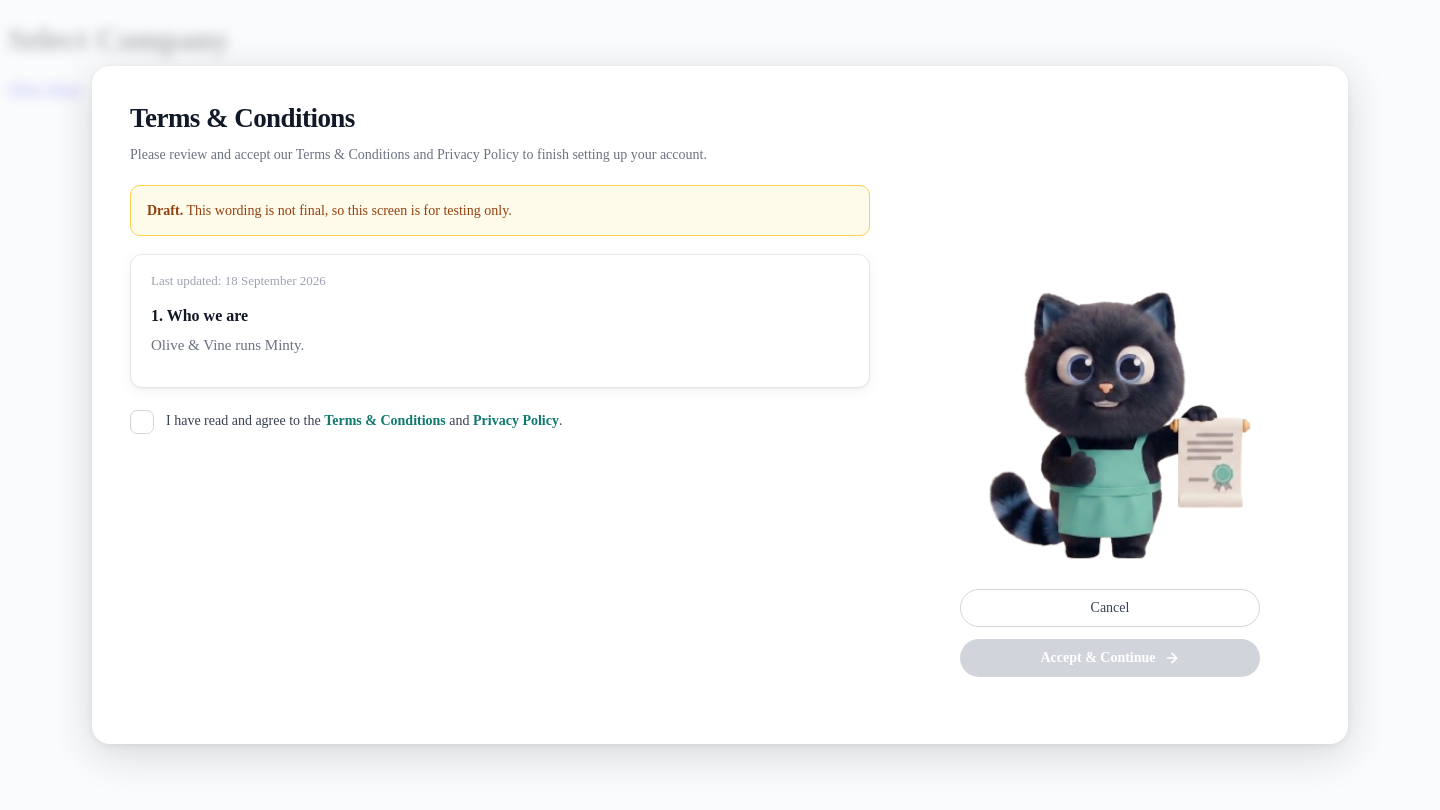
Test: TermsGate › a refusal is said in the panel, and Accept can be tried again
Click the checkbox at (142, 422), box [130,410,154,434]
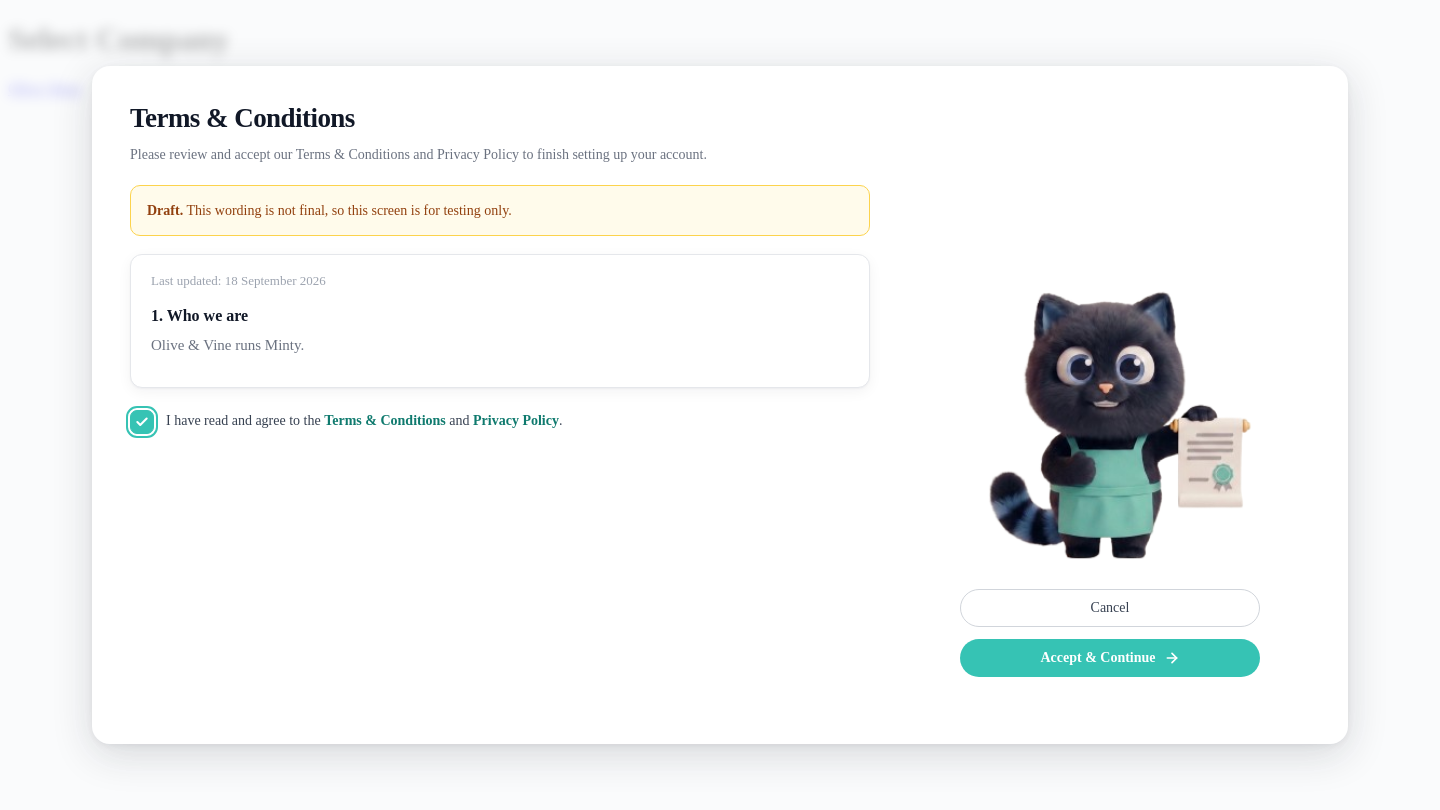
Click the button "Accept & Continue" at (1110, 658), box [960,639,1260,677]
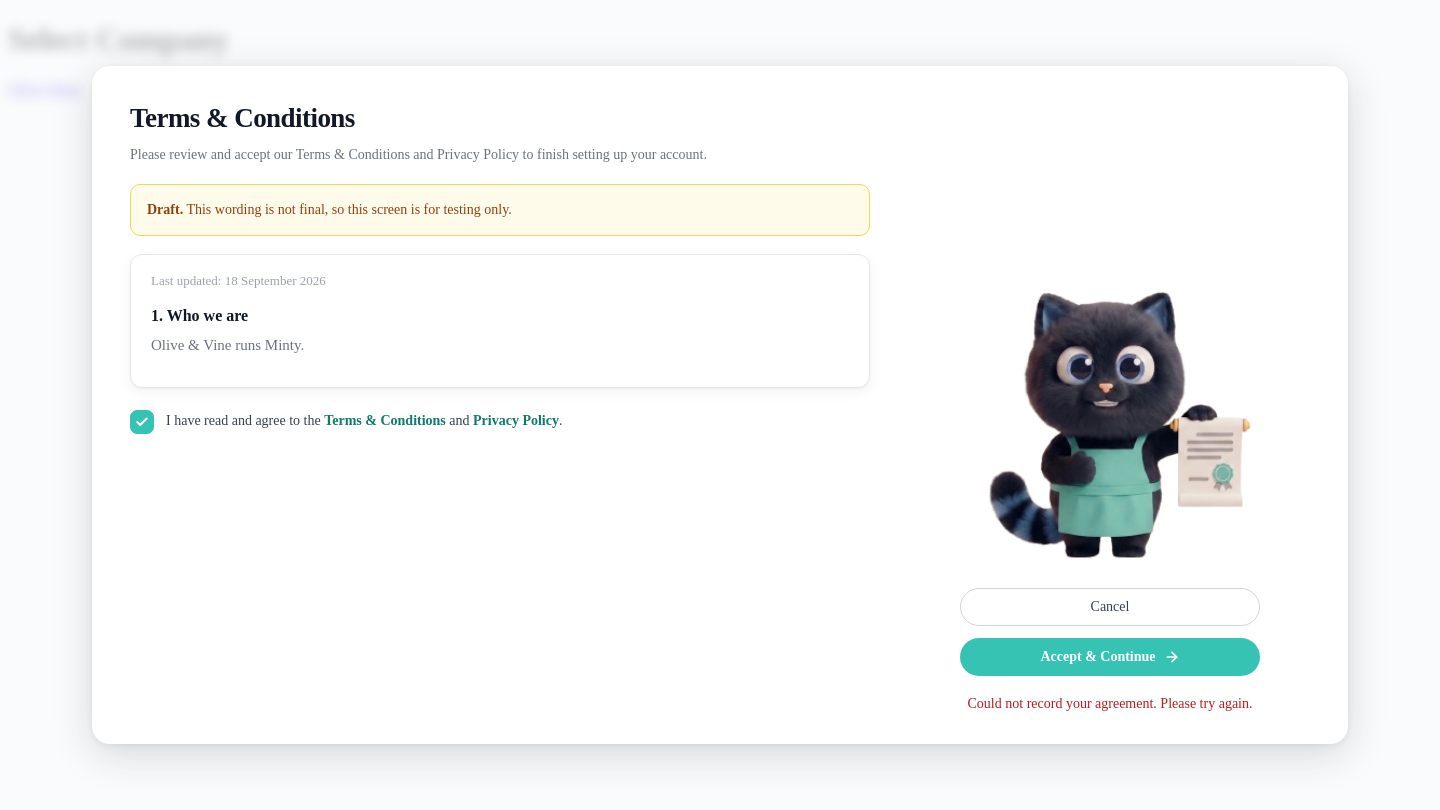
Now the button "Accept & Continue" is enabled
Now the text "Could not record your agreement. Please try again." is shown, box [968,696,1252,711]
Click the button "Accept & Continue" at (1110, 657), box [960,638,1260,676]
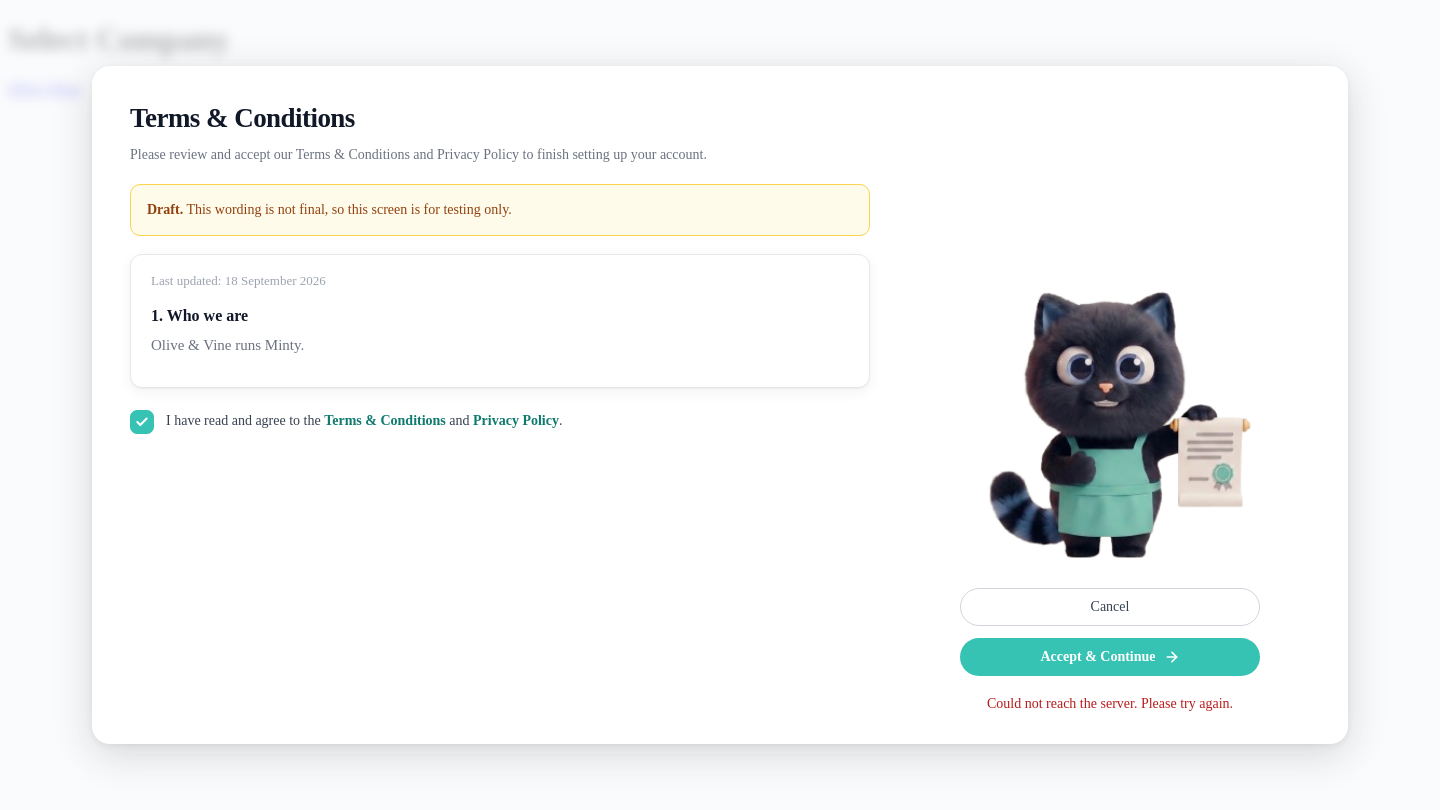
Now the text "Could not reach the server. Please try again." is shown, box [987,696,1233,711]
